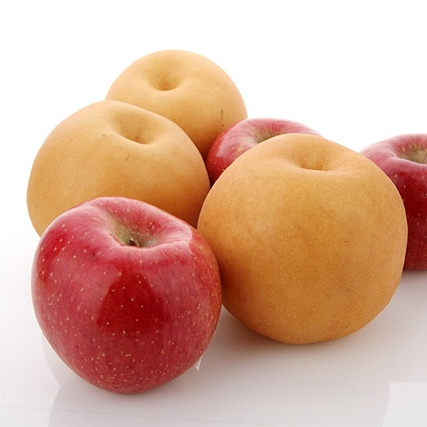apple: (26, 194, 224, 394), (357, 133, 427, 271), (211, 113, 320, 190)
